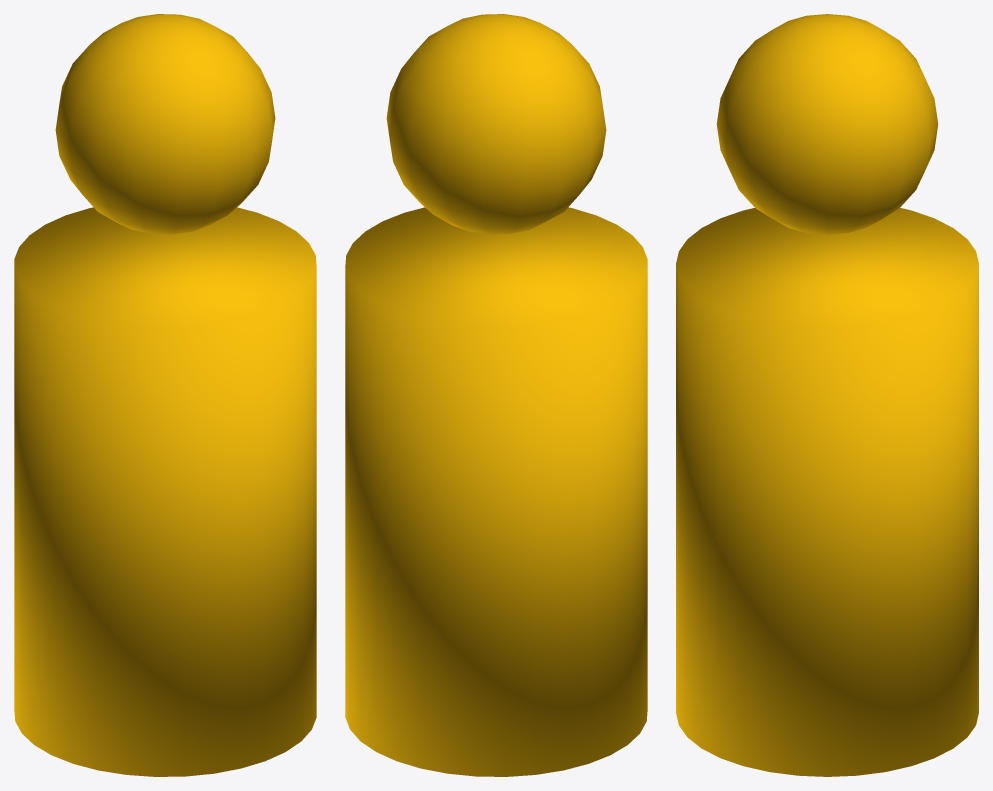
File: learn_npc.glb
The picture shows the model from 3 angles, left to right: view 1: azimuth 30°, elevation 25°; view 2: azimuth 150°, elevation 25°; view 3: azimuth 270°, elevation 25°; orthographic projection.
Parts seen in each view (by area): view 1: Learn NPC; view 2: Learn NPC; view 3: Learn NPC.
Part boxes in pixels (left/top/right/bottom): Learn NPC: left=14, top=14, right=316, bottom=776; Learn NPC: left=345, top=14, right=647, bottom=776; Learn NPC: left=676, top=14, right=978, bottom=776.
Size of the model in its own units: 0.6596 by 1.66 by 0.6596.
